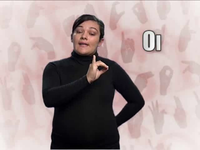oi: (84, 55, 108, 82)
